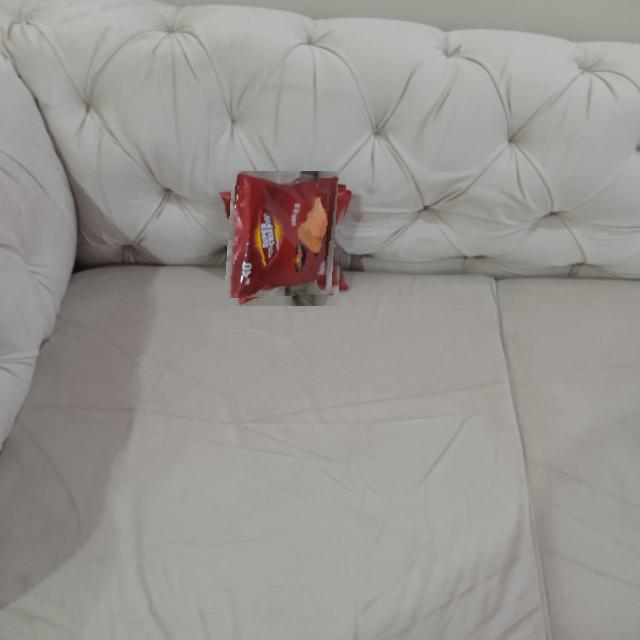Plastic: (225, 178, 347, 299)
